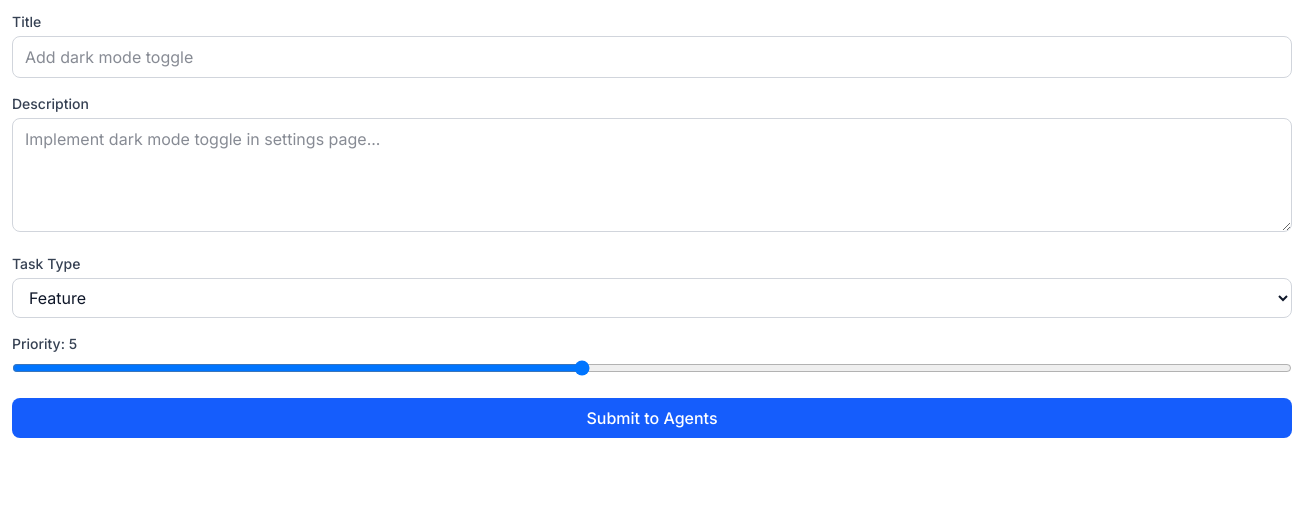
Test: TaskSubmissionForm Component › Form Submission - Success › should submit form with valid data
The image size is (1304, 517).
Note: Fill form
Type "Test Task" into the field with test id "title-input" at (652, 57), box [12,36,1292,78]
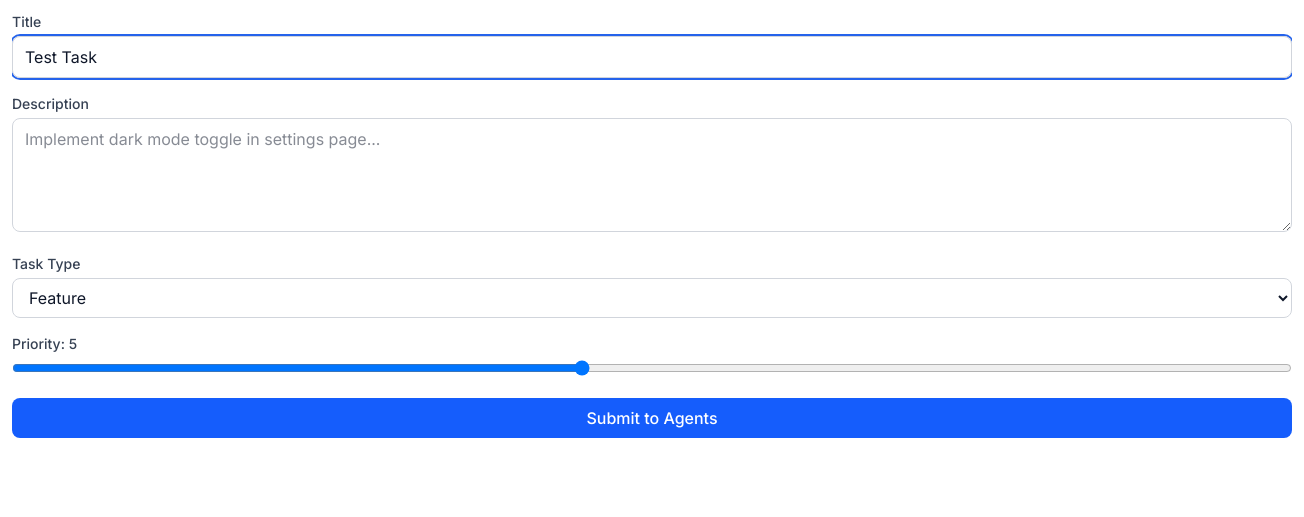
Type "This is a test task description" into the text box with test id "description-input" at (652, 175), box [12,118,1292,232]
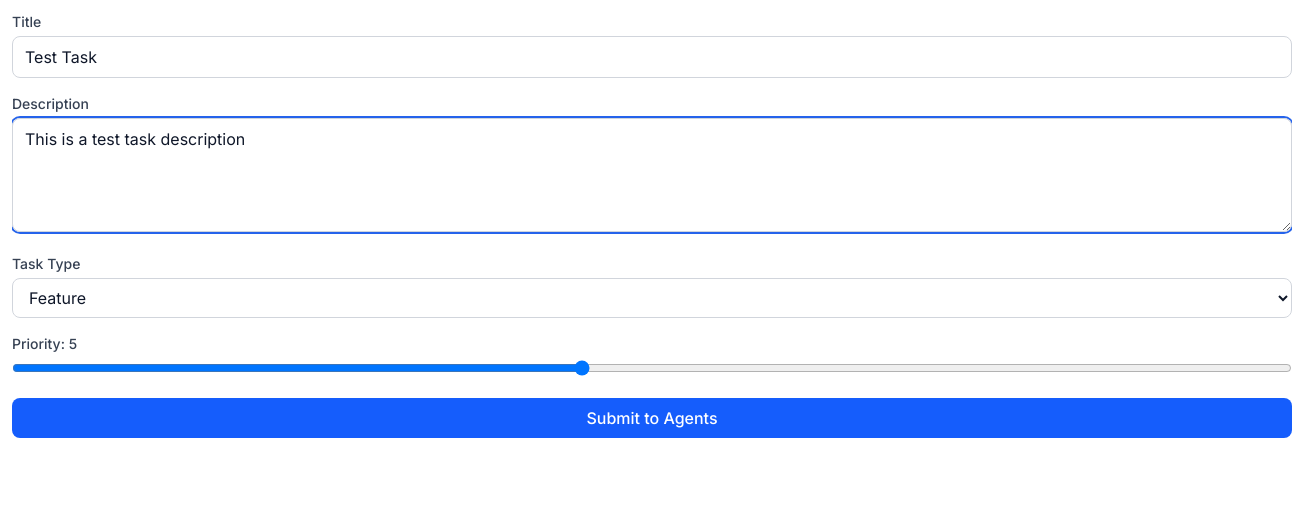
Select "Feature" in the dropdown with test id "task-type-select" at (652, 298), box [12,278,1292,318]
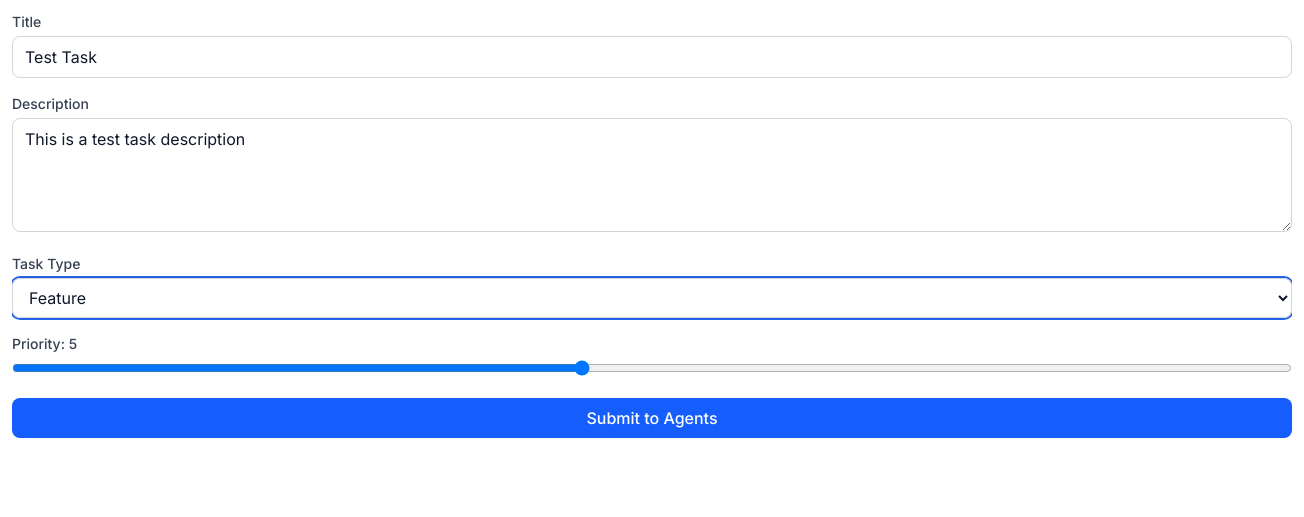
Click the button with test id "submit-button" at (652, 418), box [12,398,1292,438]
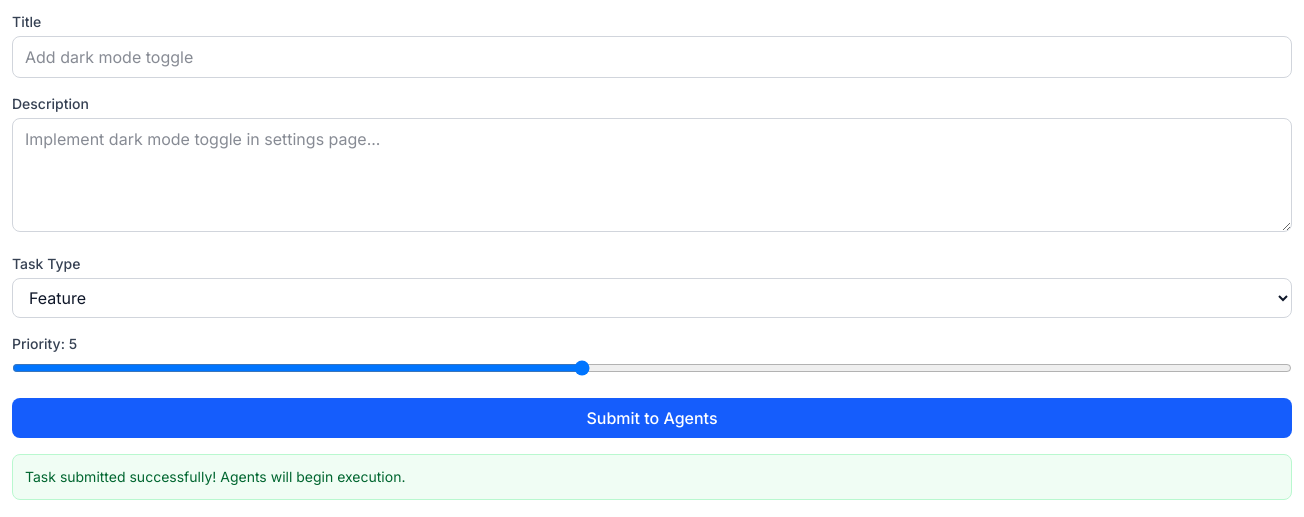
Expected: the text "Task submitted successfully! Agents will begin execution." is shown, [12,454,1292,500]
